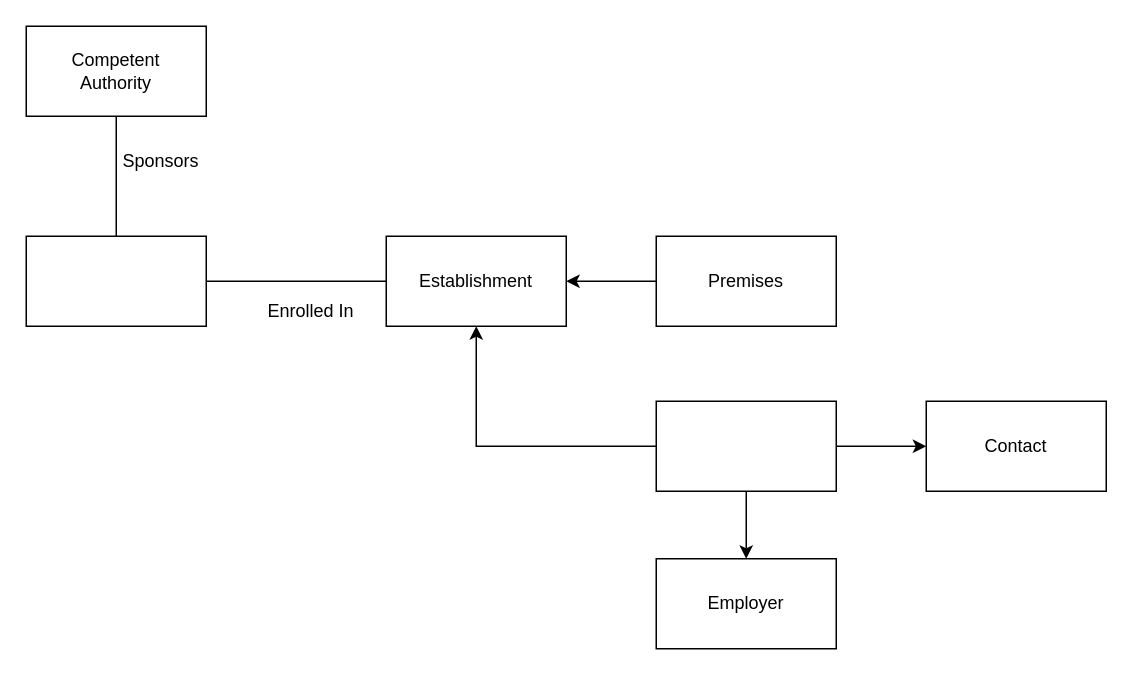
The diagram is 1133 pixels wide and 675 high, and some of its shapes have lost their labels. Each missing label, with the centre of its shape:
"Operator" belongs at [745,445].
"Scheme" belongs at [115,280].
